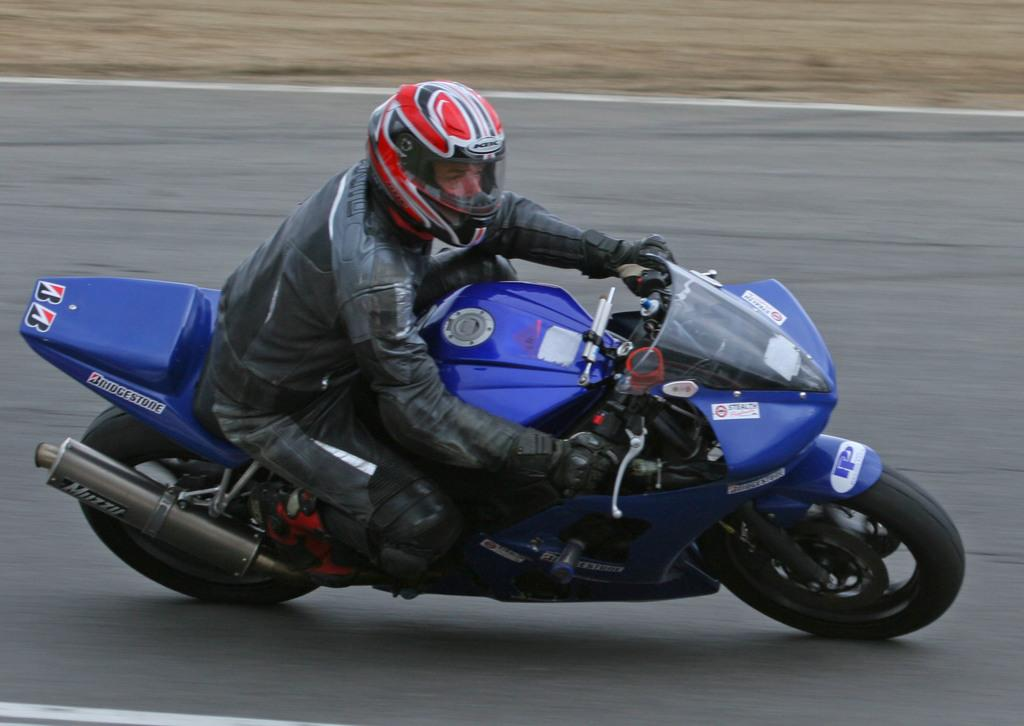helmet: (366, 79, 507, 248)
